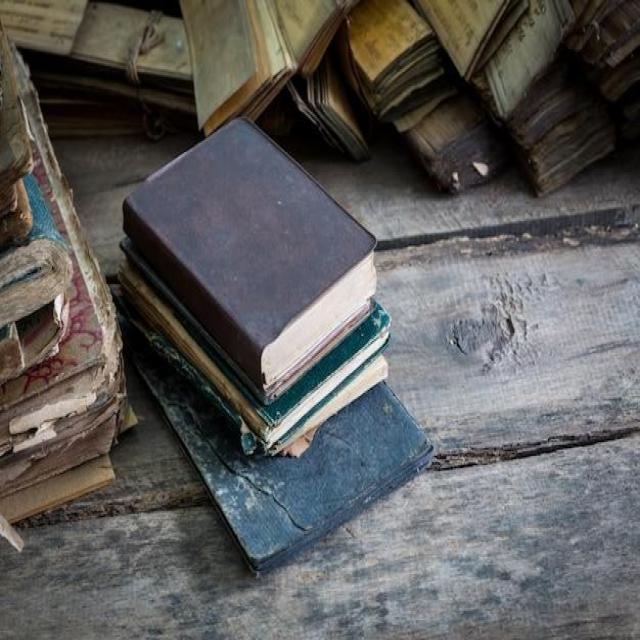paper: (114, 114, 435, 578), (0, 15, 144, 540)
